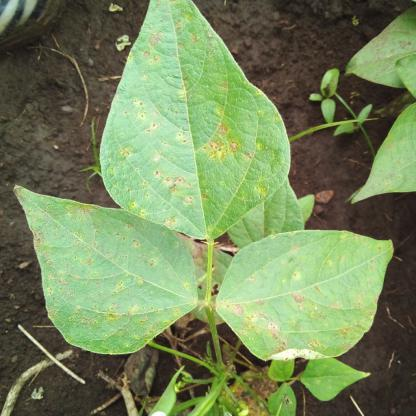Beans_Angular_LeafSpot: (97, 1, 288, 238), (6, 178, 191, 348), (214, 228, 388, 356)
